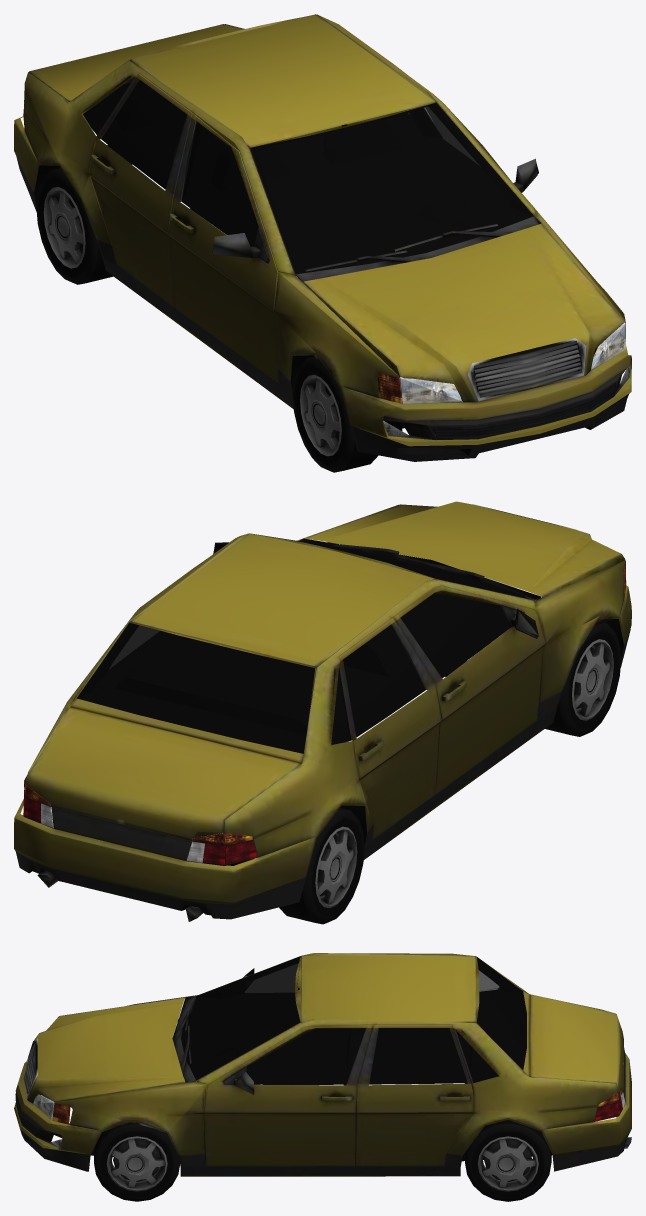
Rendered from sedan_lo.glb.
3 renders of one model, top to bottom at view 1: azimuth 30°, elevation 25°; view 2: azimuth 150°, elevation 25°; view 3: azimuth 270°, elevation 25°, orthographic. The views are drawn at different scales.
Parts seen in each view (by area): view 1: body, wheel_fr, wheel_rr; view 2: body, wheel_rr, wheel_fr; view 3: body, wheel_rl, wheel_fl.
Part boxes in pixels (x1,y1,x2,y2): body: (14,14,631,461); wheel_fr: (292,356,384,472); wheel_rr: (36,168,113,284); body: (14,501,631,921); wheel_rr: (279,807,364,924); wheel_fr: (545,622,621,736); body: (14,953,631,1176); wheel_rl: (465,1120,551,1201); wheel_fl: (94,1122,180,1201).
Size of the model in its own units: 2.08 by 1.44 by 4.68.
Materials: 4 (3 with a texture image).
